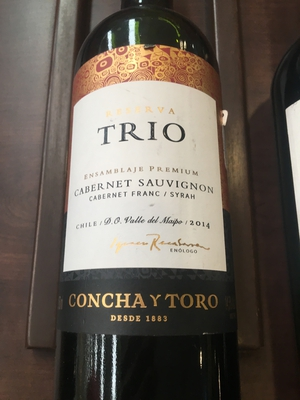trio cabernet sauvignon: (57, 31, 229, 400)
